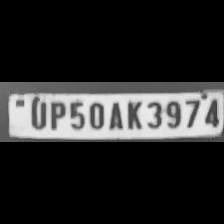0: (86, 99, 106, 129)
3: (144, 98, 162, 130)
4: (201, 96, 221, 128)
5: (66, 98, 84, 130)
7: (182, 97, 200, 128)
9: (162, 98, 182, 128)
A: (106, 99, 122, 130)
K: (122, 98, 142, 130)
P: (47, 99, 65, 130)
U: (26, 98, 48, 130)
